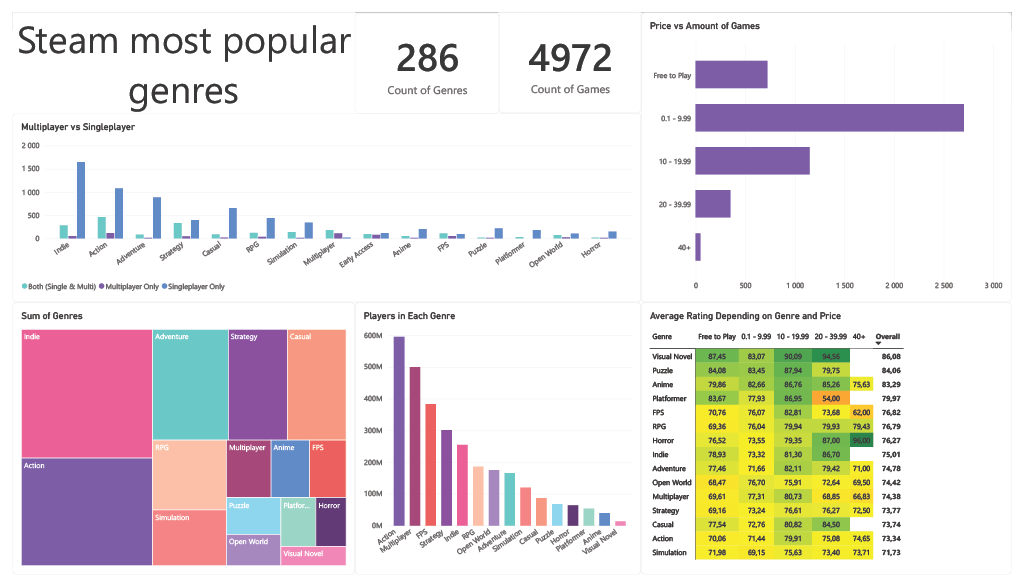

What the dashboard file says about the page in this screenshot:
{"tool":"powerbi","page":{"name":"Top Genres Dashboard","canvas":[1920,1080],"ordinal":0},"visuals":[{"type":"clusteredColumnChart","title":"Multiplayer vs Singleplayer","fields":{"Category":["steam_genres_tag.tag_genre_name"],"Series":["steam_categories.play_mode"],"Y":["CountNonNull(steam_genres_tag.tag_genre_name)"]},"box":[0,193.1,1208.5,363.8],"z":0},{"type":"treemap","title":"Sum of Genres","fields":{"Group":["steam_genres_tag.tag_genre_name"],"Values":["CountNonNull(steam_genres_tag.tag_genre_name)"]},"box":[0,556.7,658.3,523.3],"z":1000},{"type":"textbox","box":[0,0,658,194],"z":2000},{"type":"cardVisual","fields":{"Data":["CountNonNull(steam.appid)"]},"box":[935.4,0,273.1,193.1],"z":3000},{"type":"cardVisual","fields":{"Data":["Count(steam_genres_tag.tag_genre_name)"]},"box":[658.5,0.8,276.9,193.1],"z":4000},{"type":"barChart","title":"Price vs Amount of Games","fields":{"Category":["steam.price_range","steam_genres_tag.tag_genre_name"],"Y":["CountNonNull(steam.appid)"]},"box":[1208.5,0,711.5,556.9],"z":5000},{"type":"columnChart","title":"Players in Each Genre","fields":{"Category":["steam_genres_tag.tag_genre_name"],"Series":["steam_genres_tag.tag_genre_name"],"Y":["Sum(steam.owners_min)"]},"box":[658.5,556.9,550,523.1],"z":6000},{"type":"pivotTable","title":"Average Rating Depending on Genre and Price","fields":{"Columns":["steam.price_range"],"Rows":["steam_genres_tag.tag_genre_name"],"Values":["Avg(steam.rating_score)"]},"box":[1208.3,556.7,711.7,523.3],"z":7000}]}

Visuals, with their boxes in screenshot pixels (x1, y1, x2, y2), scaled from the page's 1920x1080 canvas onto the 1024x587 screenshot:
"Multiplayer vs Singleplayer" clusteredColumnChart: detection(0, 105, 645, 303)
"Sum of Genres" treemap: detection(0, 303, 351, 586)
textbox: detection(0, 0, 351, 105)
cardVisual - CountNonNull(steam.appid): detection(499, 0, 645, 105)
cardVisual - Count(steam_genres_tag.tag_genre_name): detection(351, 0, 499, 105)
"Price vs Amount of Games" barChart: detection(645, 0, 1023, 303)
"Players in Each Genre" columnChart: detection(351, 303, 645, 586)
"Average Rating Depending on Genre and Price" pivotTable: detection(644, 303, 1023, 586)
